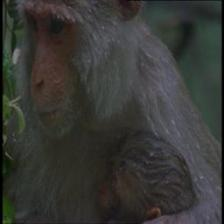monkey: (4, 2, 90, 144), (93, 124, 207, 222)
